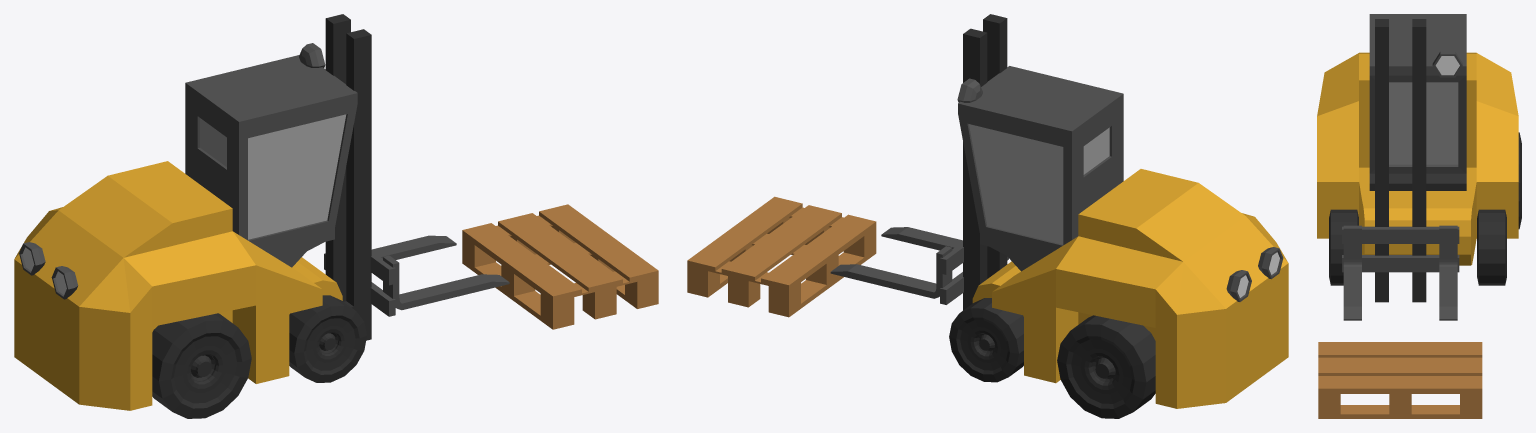
3 renders of one model, left to right at view 1: azimuth 30°, elevation 25°; view 2: azimuth 150°, elevation 25°; view 3: azimuth 270°, elevation 25°, orthographic. The views are drawn at different scales.
Visible parts, largest first — view 1: C-1, A-26, Cube.125, Cylinder.094, Cylinder.097, Cube.126, Cylinder.106, Cylinder.105; view 2: C-1, A-26, Cylinder.095, Cube.125, Cylinder.098, Cube.126, Cylinder.105, Cylinder.106; view 3: C-1, A-26, Cube.125, Cube.126, Cylinder.098, Cylinder.097, Cylinder.095.
Part boxes in pixels (x1,y1,x2,y2): C-1: [14, 43, 357, 410]; A-26: [462, 204, 658, 329]; Cube.125: [325, 14, 371, 340]; Cylinder.094: [152, 313, 251, 418]; Cylinder.097: [289, 295, 366, 382]; Cube.126: [324, 235, 509, 316]; Cylinder.106: [19, 242, 45, 275]; Cylinder.105: [51, 266, 78, 299]; C-1: [957, 66, 1288, 408]; A-26: [687, 196, 876, 317]; Cylinder.095: [1057, 315, 1155, 418]; Cube.125: [963, 14, 1007, 310]; Cylinder.098: [949, 298, 1023, 382]; Cube.126: [830, 227, 1008, 304]; Cylinder.105: [1258, 247, 1283, 279]; Cylinder.106: [1226, 270, 1251, 301]; C-1: [1317, 14, 1518, 265]; A-26: [1318, 342, 1482, 418]; Cube.125: [1375, 19, 1426, 302]; Cube.126: [1342, 225, 1459, 320]; Cylinder.098: [1477, 209, 1506, 285]; Cylinder.097: [1329, 209, 1358, 285]; Cylinder.095: [1518, 132, 1521, 229].
Bounding box in the file's own units: 2039 × 1094 × 715.
